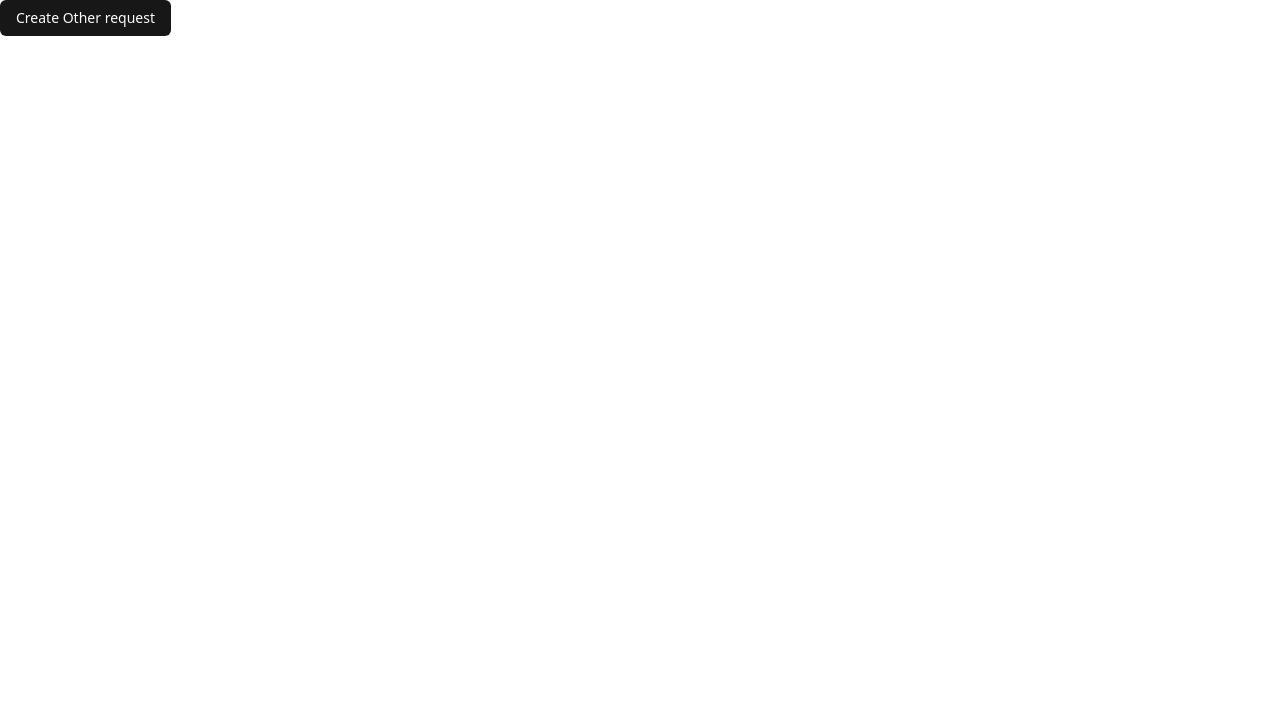
it: StaffOtherRequestDialog › loads scholars when staff open the creation dialog
Click the button "Create Other request" at x=86, y=18, box [0,0,171,36]
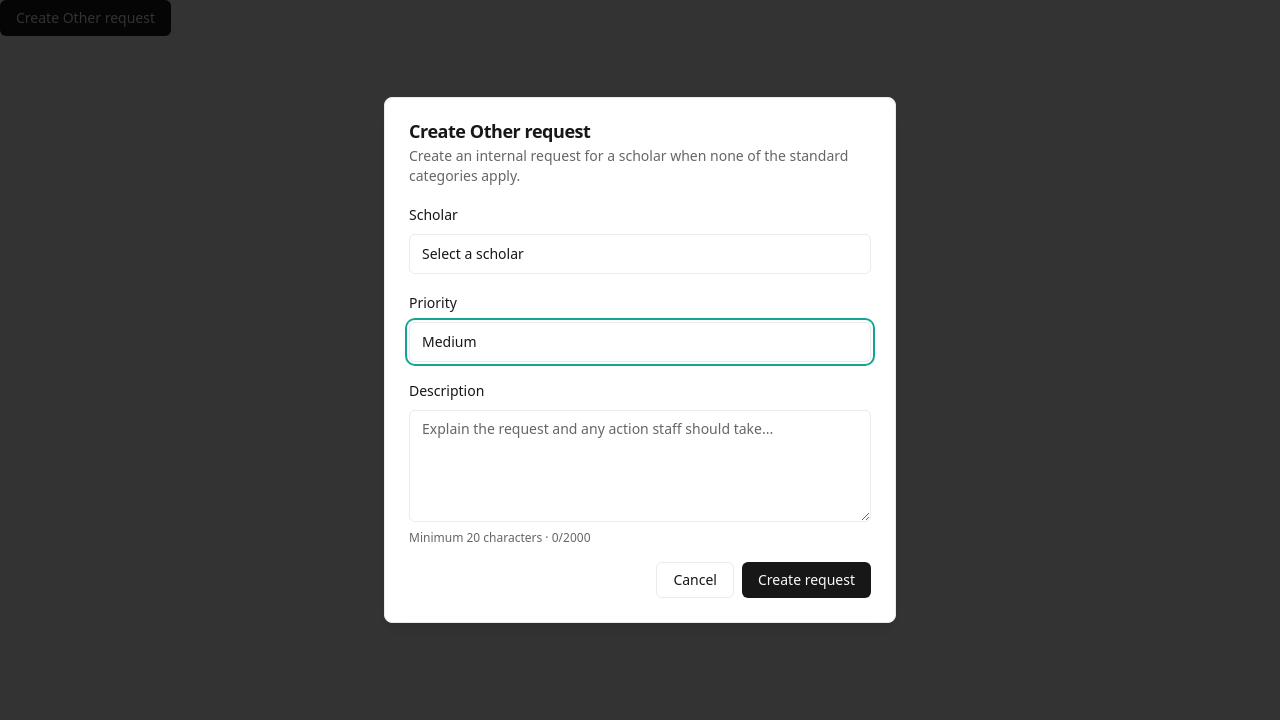
Expected: the dialog "Create Other request" is shown, [384,97,896,623]
Expected: the dropdown labelled "scholar" is enabled, [409,234,871,274]
Expected: the text box labelled "Description" is shown, [409,410,871,522]
